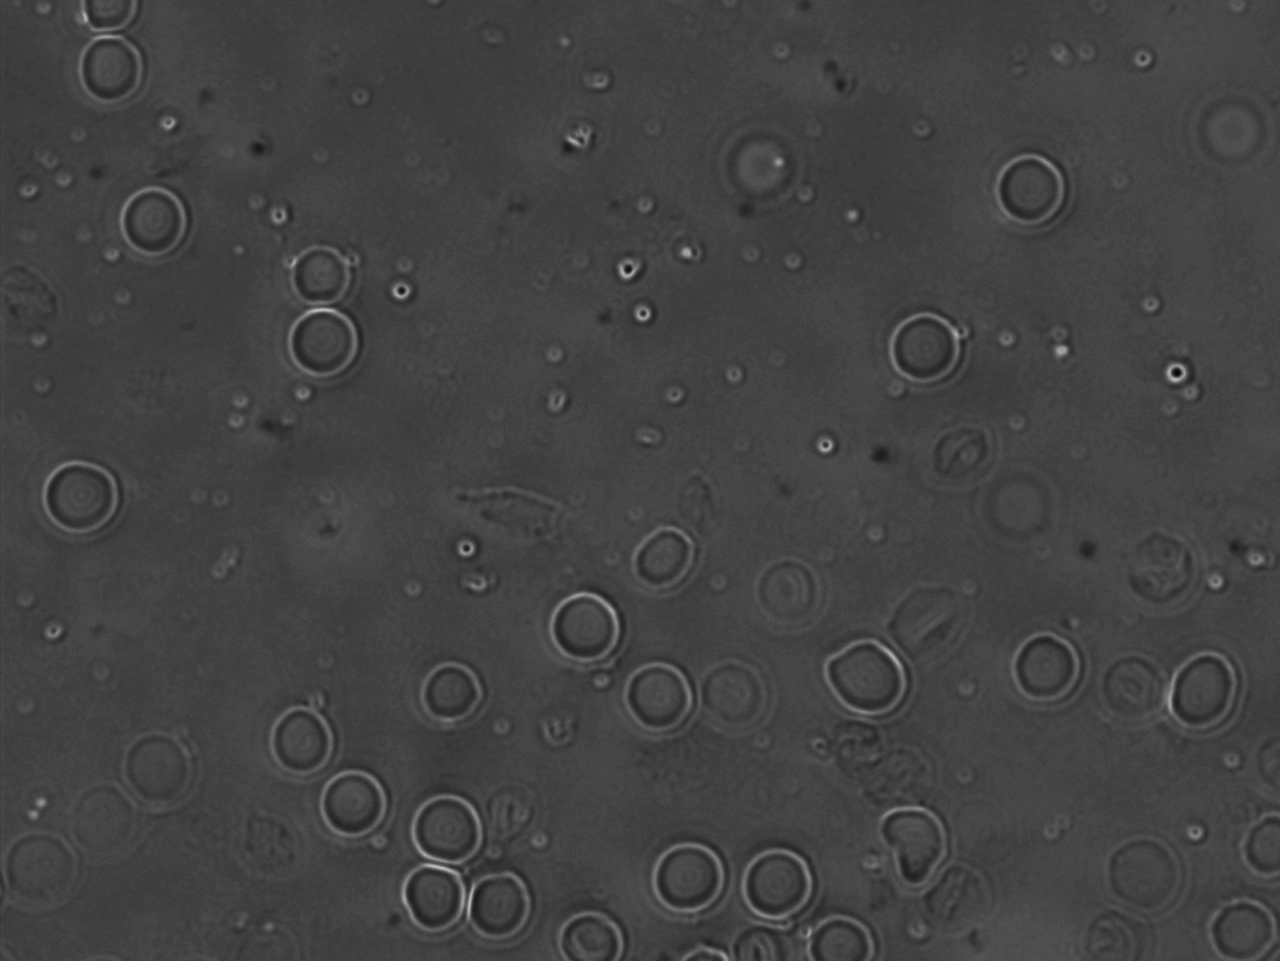depth:0: (817, 625, 932, 723), (999, 618, 1105, 719), (642, 827, 735, 928), (273, 297, 369, 391), (875, 300, 975, 391), (38, 445, 128, 541), (1159, 640, 1247, 737), (720, 835, 812, 926), (543, 586, 633, 676), (257, 695, 348, 783), (989, 143, 1076, 236), (65, 27, 159, 112), (611, 651, 697, 742), (385, 856, 481, 937), (453, 867, 546, 950), (407, 781, 491, 869), (266, 228, 355, 310), (540, 891, 638, 961), (308, 760, 398, 836), (113, 181, 197, 260), (402, 657, 487, 735), (626, 513, 708, 592), (1198, 883, 1280, 961), (798, 909, 893, 961)
